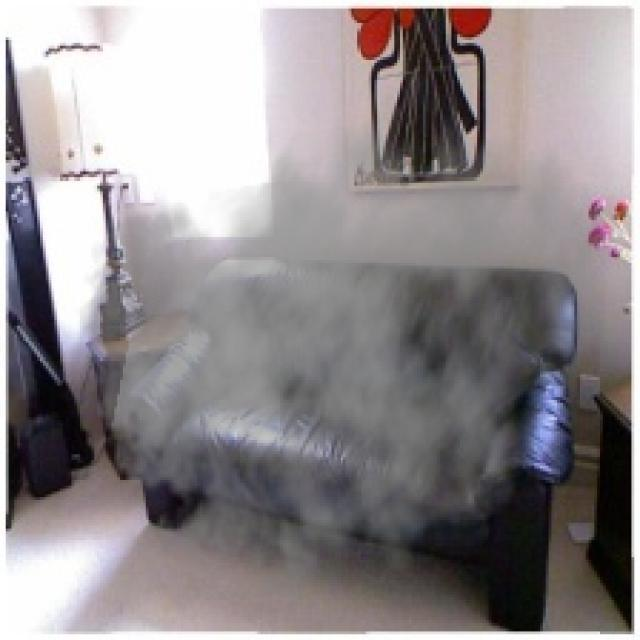Smoke: (71, 68, 614, 618)
